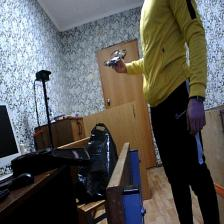drone: (102, 46, 129, 70)
